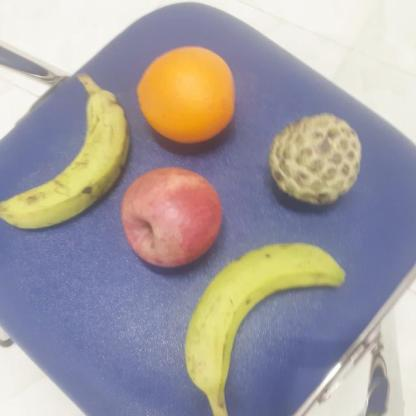annona: (263, 113, 364, 210)
apple: (119, 163, 229, 269)
banana: (172, 240, 351, 402), (0, 85, 129, 228)
orange: (136, 44, 240, 146)
